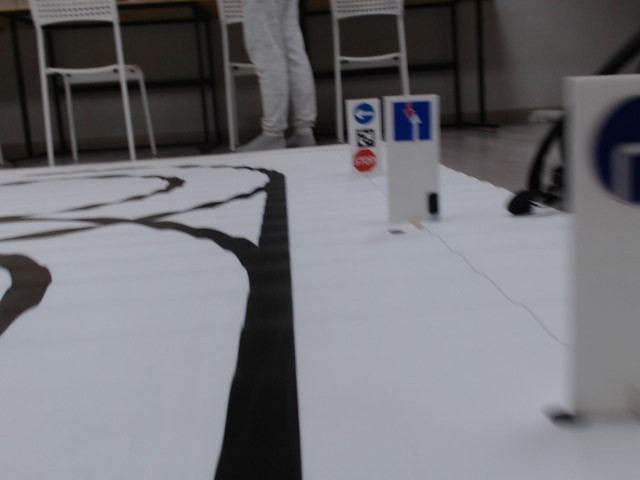Stop: (352, 149, 377, 173)
priority_movement: (391, 98, 432, 144)
